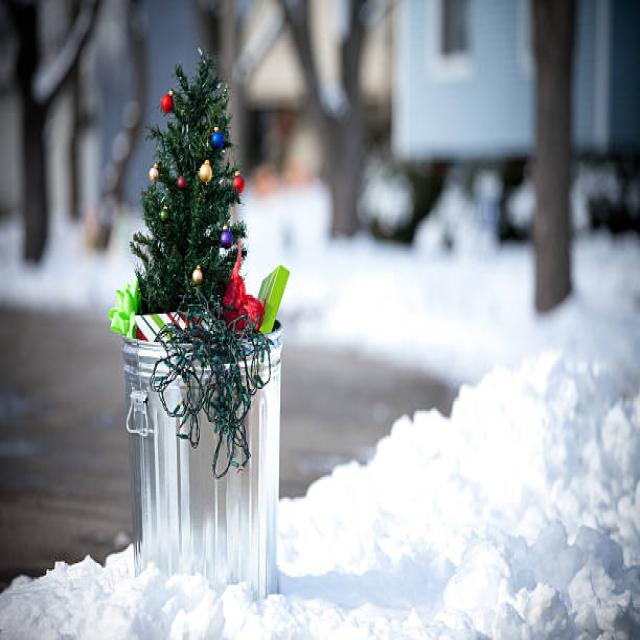trash: (93, 53, 294, 420)
